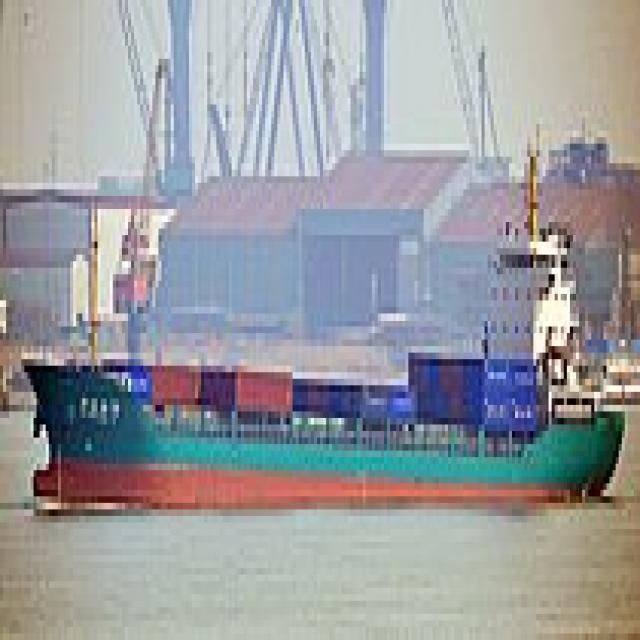Cargo: (15, 111, 625, 509)
